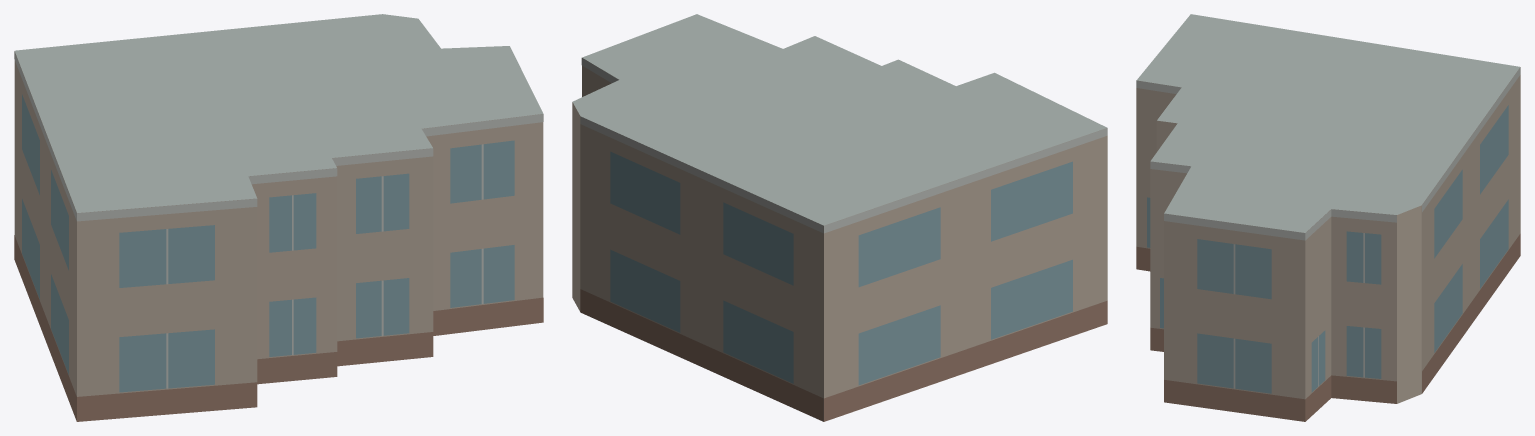
File: survey-upis-32659637.glb
The picture shows the model from 3 angles, left to right: view 1: azimuth 30°, elevation 25°; view 2: azimuth 150°, elevation 25°; view 3: azimuth 270°, elevation 25°; orthographic projection. The views are drawn at different scales.
Visible parts, largest first — view 1: survey-upis-32659637.tmp; view 2: survey-upis-32659637.tmp; view 3: survey-upis-32659637.tmp.
Boxes of the visible parts, bbox=[...] form: survey-upis-32659637.tmp: bbox=[14, 14, 543, 421]; survey-upis-32659637.tmp: bbox=[572, 14, 1107, 421]; survey-upis-32659637.tmp: bbox=[1136, 14, 1520, 421].
Bounding box in the file's own units: 15.18 × 6.1 × 11.25.
